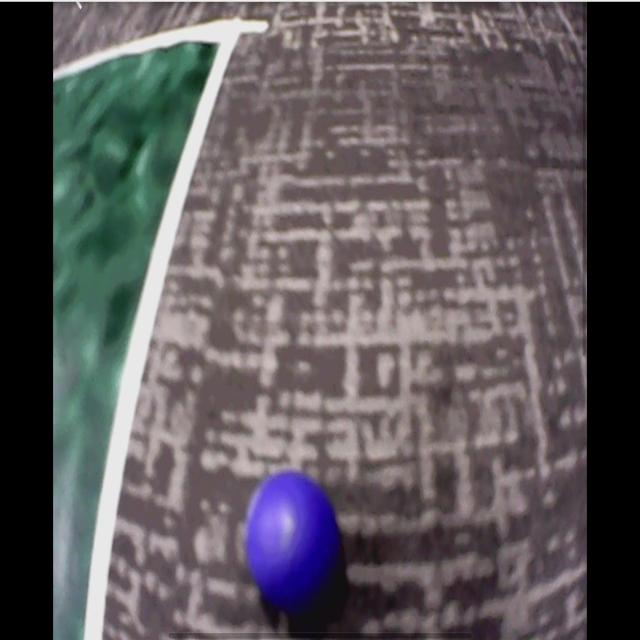ball: (247, 472, 337, 606)
